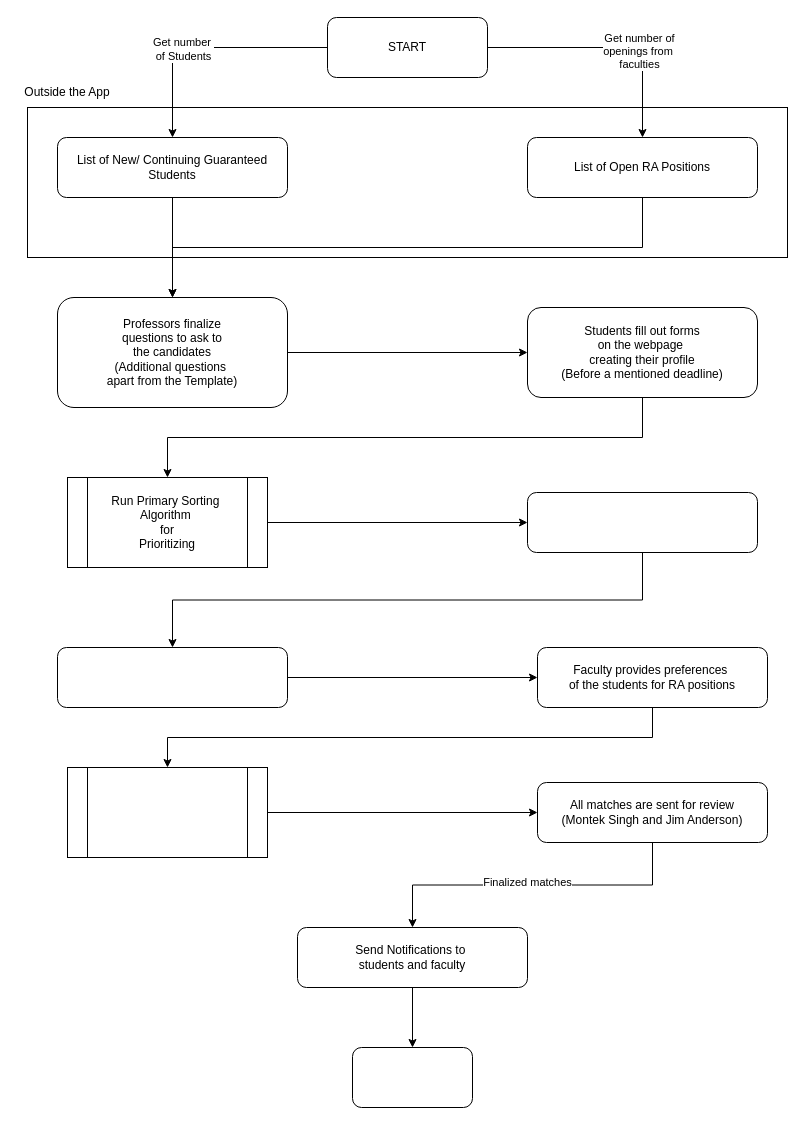
Some shapes in this 805 by 1125 pixel diagram are drawn without their labels. Each missing label, with the box of its shape:
END: (352, 1046, 472, 1108)
Faculty meet with the student for interviews: (56, 646, 288, 708)
Faculty review student profiles: (526, 492, 758, 552)
Final matching Algorithm for Matching: (66, 766, 268, 858)
